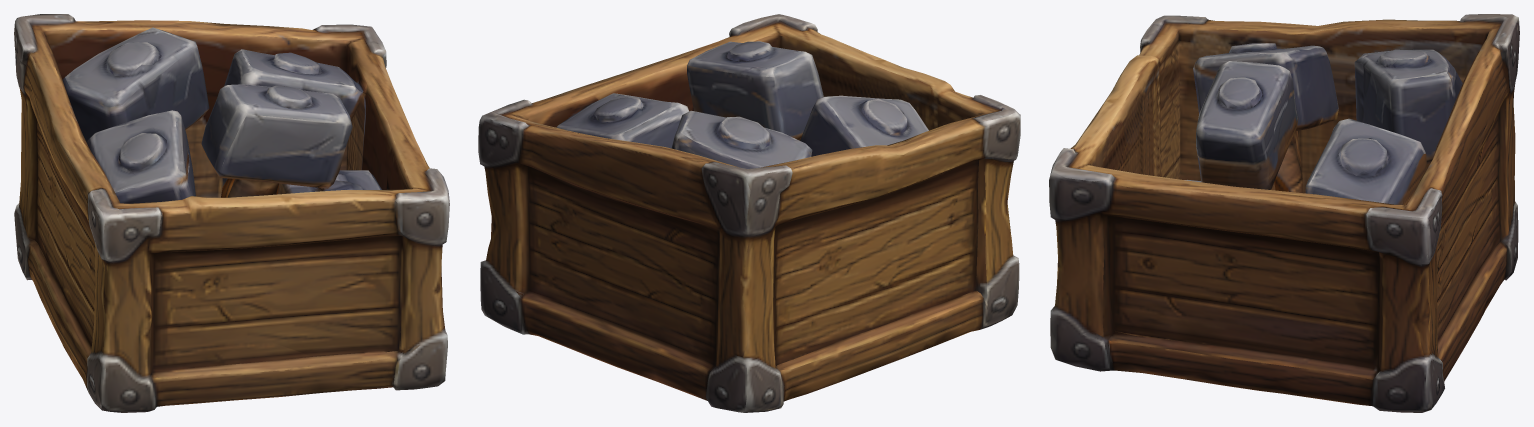
The model's file is HammerBox.glb.
3 renders of one model, left to right at view 1: azimuth 30°, elevation 25°; view 2: azimuth 150°, elevation 25°; view 3: azimuth 270°, elevation 25°, orthographic.
Visible parts, largest first — view 1: input; view 2: input; view 3: input.
Part boxes in pixels (x1,y1,x2,y2): input: [14, 14, 449, 412]; input: [478, 14, 1020, 412]; input: [1049, 14, 1519, 412].
Bounding box in the file's own units: 0.9976 × 0.5992 × 0.9955.
Materials: 1 (1 with a texture image).
